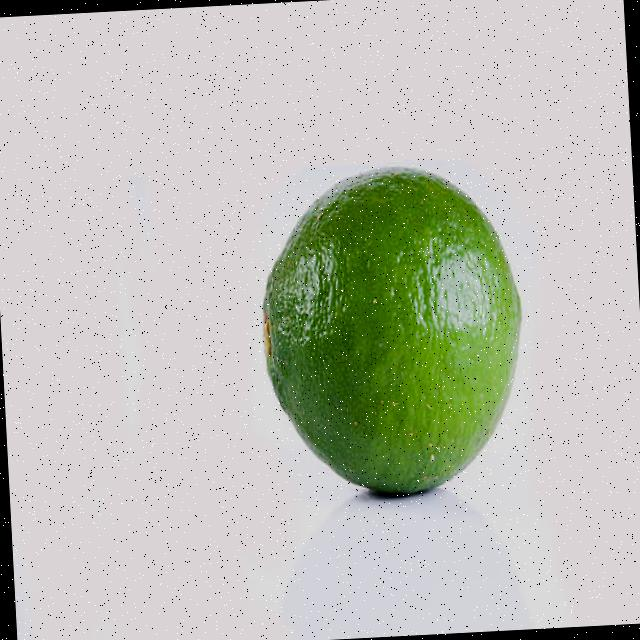Lemon: (250, 155, 531, 502)
